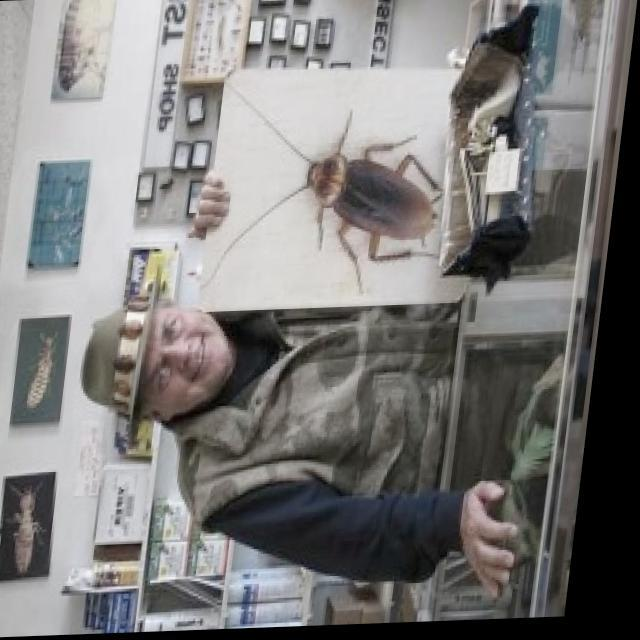cockroach: (260, 102, 469, 294)
